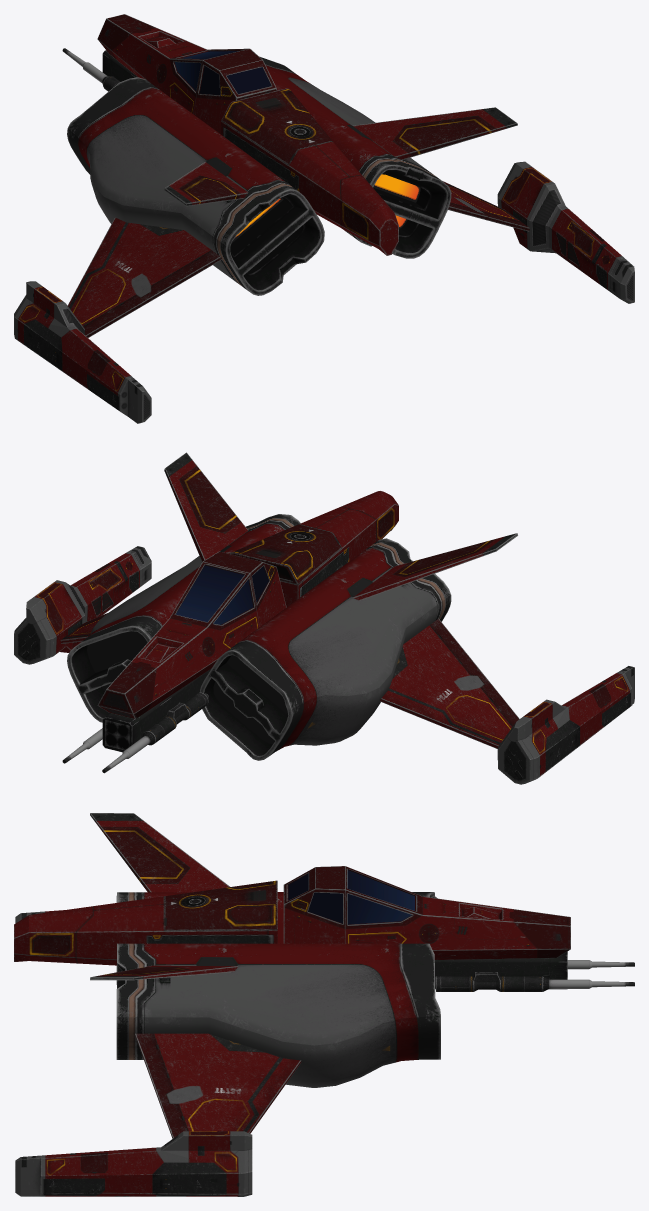
The model's file is battleship4.gltf.
3 views of the same model, one above another, from view 1: azimuth 30°, elevation 25°; view 2: azimuth 150°, elevation 25°; view 3: azimuth 270°, elevation 25° (orthographic).
Visible parts, largest first — view 1: Engine1_Left, MainBody2, Cockpit3_WithoutInterior, Wing6, Engine1_Right, MainBody13_Mirrored, MainBody13, Wing2_Mirrored, Wing2, Wing6_Mirrored, thruster1; view 2: Engine1_Left, Cockpit3_WithoutInterior, Wing6, Engine1_Right, MainBody2, MainBody13, MainBody13_Mirrored, Wing2_Mirrored, Wing2, Big_Launcher, Blaster_Left, Wing6_Mirrored; view 3: Engine1_Right, Cockpit3_WithoutInterior, MainBody2, MainBody13_Mirrored, Wing6_Mirrored, Wing2, Blaster_Right, Big_Launcher, Wing2_Mirrored, Engine1_Left.
Part boxes in pixels (x1,y1,x2,y2): Engine1_Left: [67, 77, 324, 295]; MainBody2: [221, 88, 398, 255]; Cockpit3_WithoutInterior: [97, 14, 277, 134]; Wing6: [67, 217, 222, 337]; Engine1_Right: [259, 56, 451, 258]; MainBody13_Mirrored: [497, 161, 634, 303]; MainBody13: [14, 281, 151, 423]; Wing2_Mirrored: [353, 107, 517, 159]; Wing2: [164, 162, 248, 206]; Wing6_Mirrored: [443, 181, 529, 231]; thruster1: [373, 174, 420, 228]; Engine1_Left: [200, 538, 451, 760]; Cockpit3_WithoutInterior: [97, 551, 286, 718]; Wing6: [380, 618, 519, 748]; Engine1_Right: [67, 514, 300, 722]; MainBody2: [229, 491, 398, 606]; MainBody13: [497, 666, 634, 784]; MainBody13_Mirrored: [14, 546, 151, 664]; Wing2_Mirrored: [164, 452, 248, 561]; Wing2: [353, 533, 517, 600]; Big_Launcher: [102, 668, 211, 752]; Blaster_Left: [102, 692, 208, 773]; Wing6_Mirrored: [60, 613, 107, 643]; Engine1_Right: [116, 943, 440, 1087]; Cockpit3_WithoutInterior: [283, 866, 570, 959]; MainBody2: [14, 880, 277, 965]; MainBody13_Mirrored: [15, 1131, 252, 1196]; Wing6_Mirrored: [135, 1033, 301, 1138]; Wing2: [90, 813, 229, 892]; Blaster_Right: [435, 972, 634, 991]; Big_Launcher: [434, 951, 567, 989]; Wing2_Mirrored: [90, 965, 238, 980]; Engine1_Left: [116, 892, 437, 984].
Size of the model in its own units: 12.32 by 4.33 by 12.46.
Materials: 9 (9 with a texture image).
